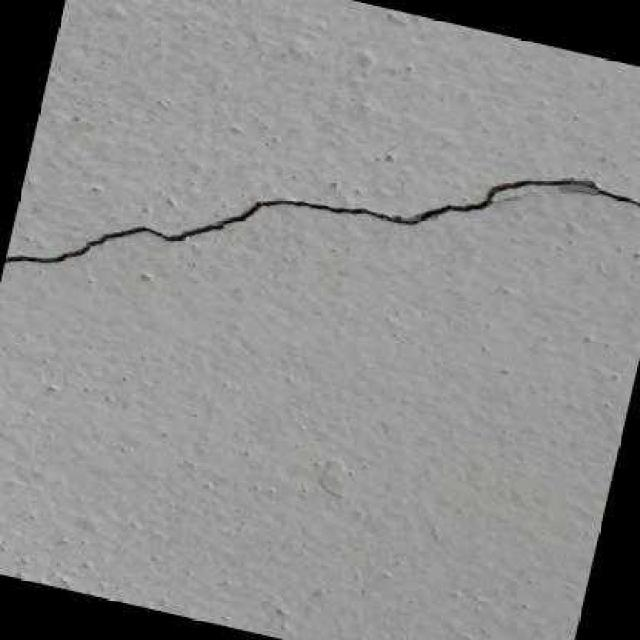D00: (5, 176, 640, 263)
